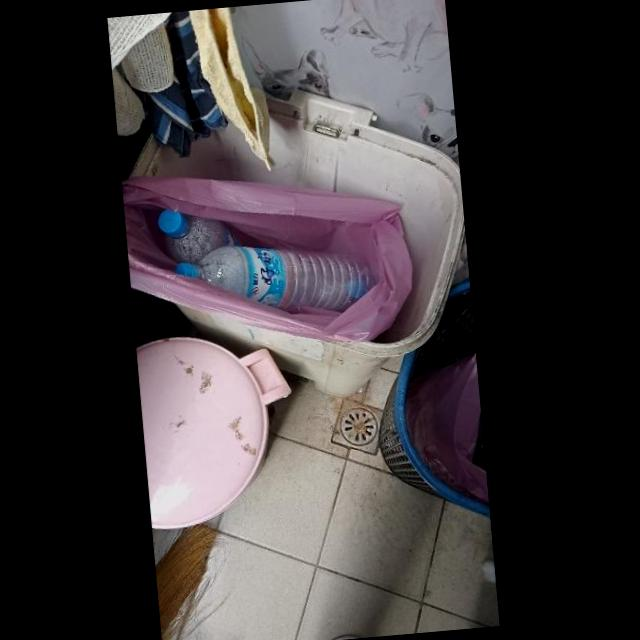chai_nhua_pet: (175, 245, 375, 312), (157, 209, 238, 264)
